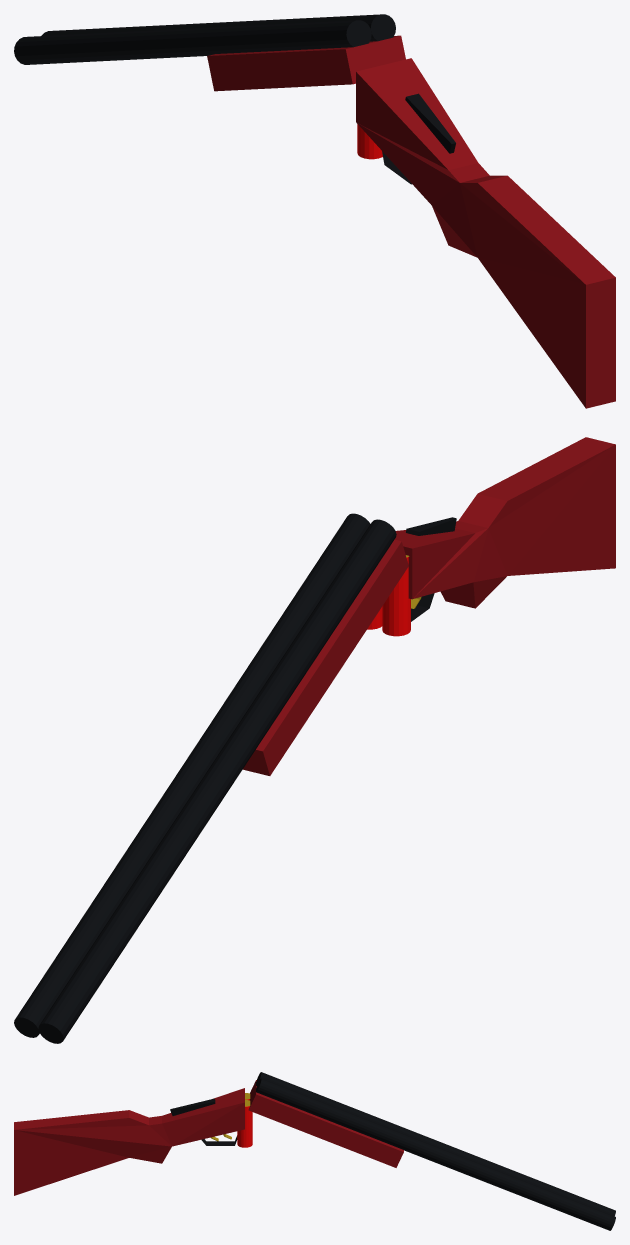
Rendered from double-barreled-shotgun0012.obj.
The picture shows the model from 3 angles, top to bottom: view 1: azimuth 30°, elevation 25°; view 2: azimuth 150°, elevation 25°; view 3: azimuth 270°, elevation 25°; orthographic projection. The views are drawn at different scales.
Visible parts, largest first — view 1: rearStock, leftBarrel, foreGrip, rightBarrel, topLatch, shellPlastic; view 2: rearStock, leftBarrel, rightBarrel, foreGrip, shellPlastic; view 3: rearStock, rightBarrel, foreGrip, leftBarrel, shellPlastic2, topLatch.
Part boxes in pixels (bbox=[...]): rearStock: bbox=[356, 58, 615, 408]; leftBarrel: bbox=[14, 20, 371, 64]; foreGrip: bbox=[207, 35, 405, 91]; rightBarrel: bbox=[41, 14, 395, 41]; topLatch: bbox=[405, 93, 455, 153]; shellPlastic: bbox=[357, 124, 382, 159]; rearStock: bbox=[394, 437, 615, 608]; leftBarrel: bbox=[38, 519, 396, 1043]; rightBarrel: bbox=[14, 513, 370, 1037]; foreGrip: bbox=[243, 539, 408, 775]; shellPlastic: bbox=[382, 557, 410, 636]; rearStock: bbox=[14, 1088, 244, 1195]; rightBarrel: bbox=[256, 1078, 615, 1230]; foreGrip: bbox=[248, 1080, 403, 1167]; leftBarrel: bbox=[256, 1072, 615, 1216]; shellPlastic2: bbox=[237, 1106, 252, 1147]; topLatch: bbox=[170, 1098, 215, 1115].
Bounding box in the file's own units: 0.2057 × 1 × 3.61.
